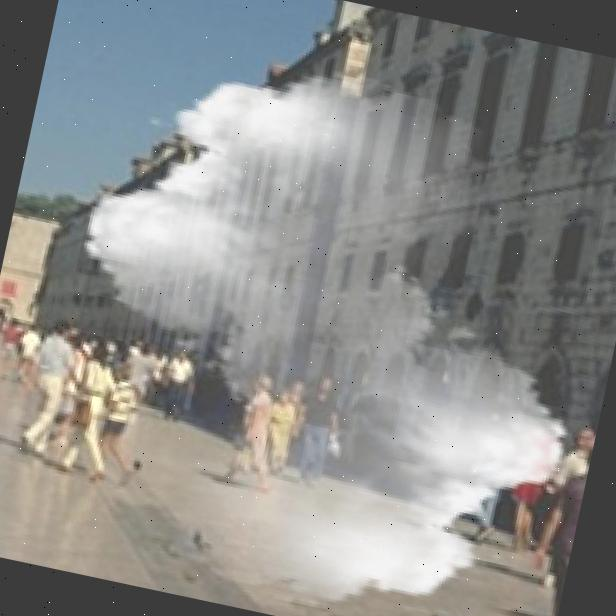smoke: (1, 23, 616, 616)
